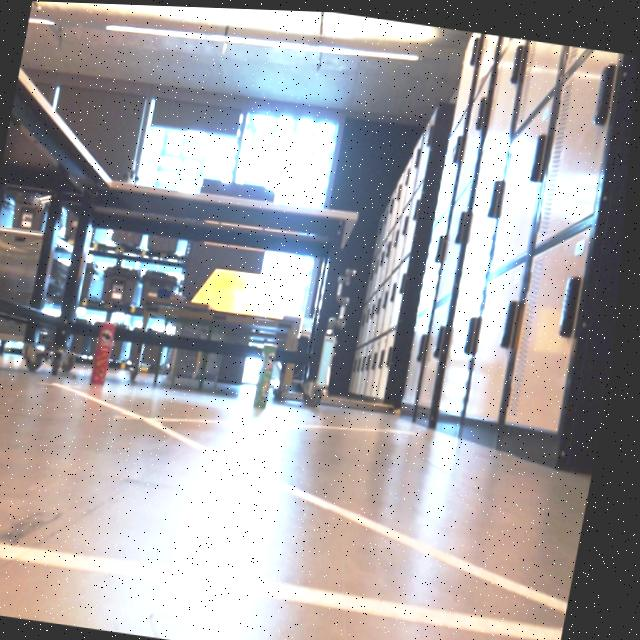greenpringles: (251, 334, 292, 412)
redpringles: (84, 302, 131, 392)
